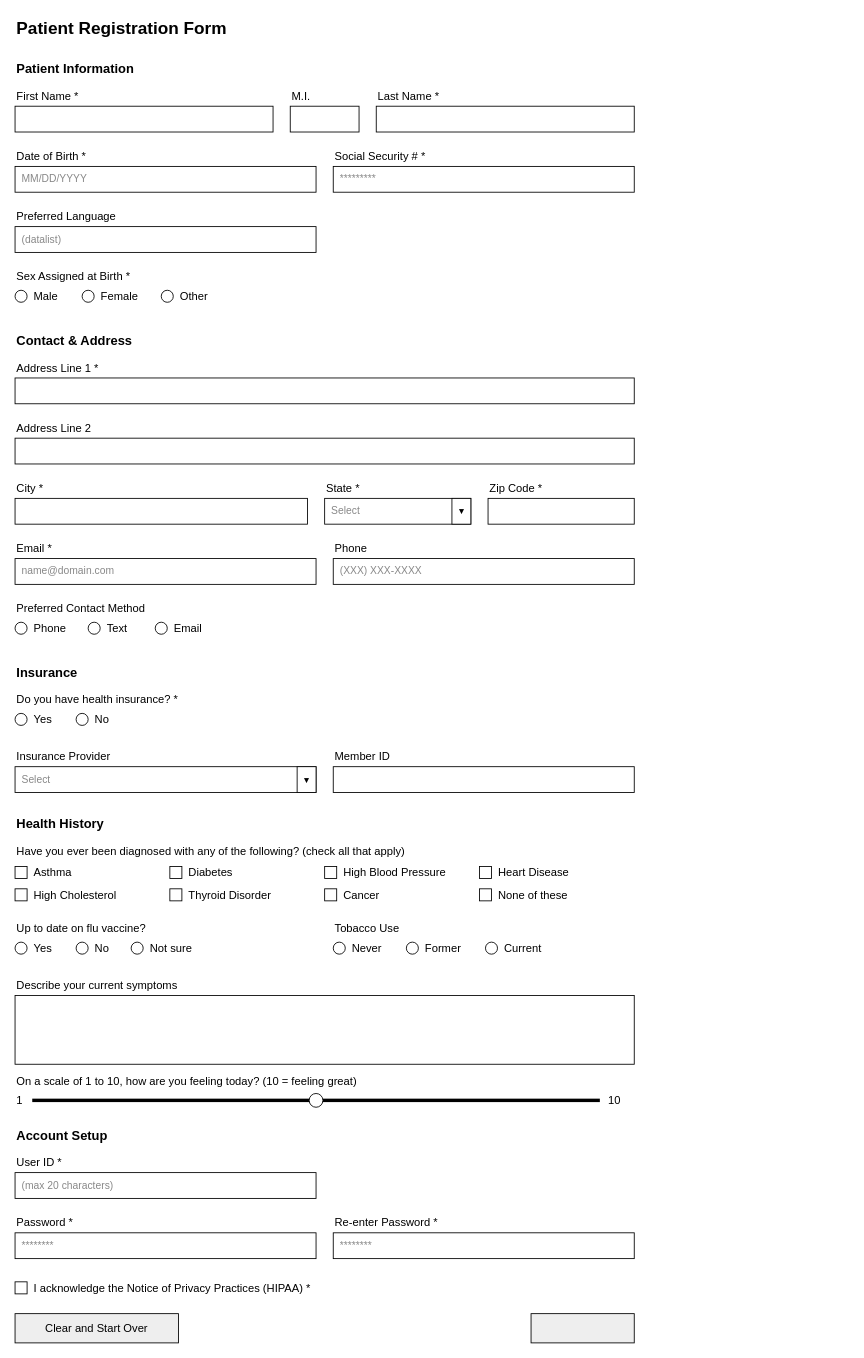
Image size: 864x1358. Some labels were removed from this diagram. The shapes that lost their labels are listed below. From the top down, each one's centre as x and y in pixels, then its label:
pixel 324 1029: (textarea, 4 rows x 50 cols)
pixel 582 1328: Submit
